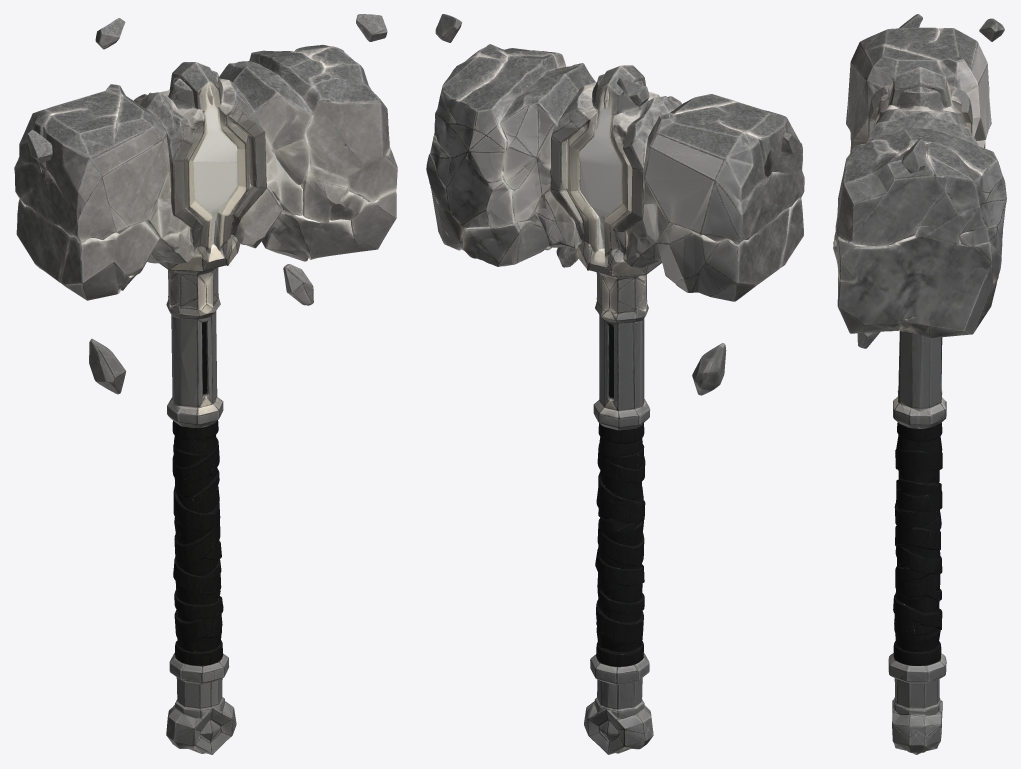
Rendered from mgo-hammer-lowpoly.glb.
3 renders of one model, left to right at view 1: azimuth 30°, elevation 25°; view 2: azimuth 150°, elevation 25°; view 3: azimuth 270°, elevation 25°, orthographic.
Visible parts, largest first — view 1: Gilded Corestone Warhammer; view 2: Gilded Corestone Warhammer; view 3: Gilded Corestone Warhammer.
Boxes of the visible parts, box(x1,y1,x2,y2) form: Gilded Corestone Warhammer: box(14, 14, 397, 754); Gilded Corestone Warhammer: box(426, 14, 804, 754); Gilded Corestone Warhammer: box(833, 14, 1006, 754).
Size of the model in its own units: 0.9922 by 1.9 by 0.4221.
1 material, 1 textured.
